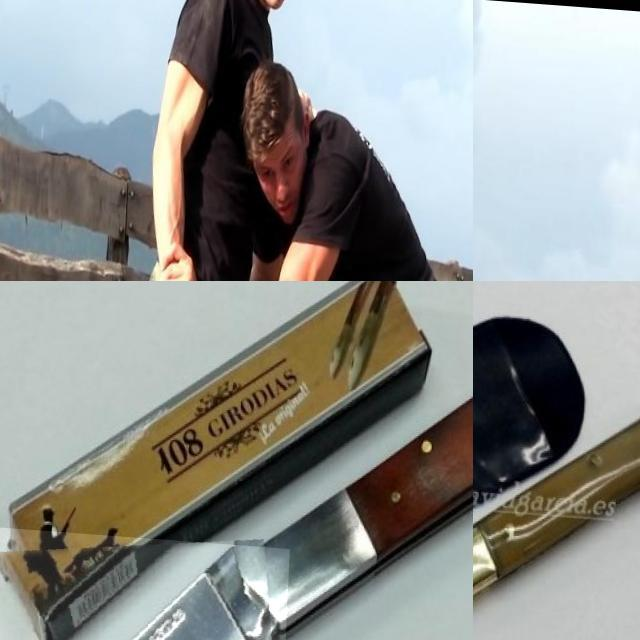-: (0, 526, 292, 640), (473, 546, 637, 640)
